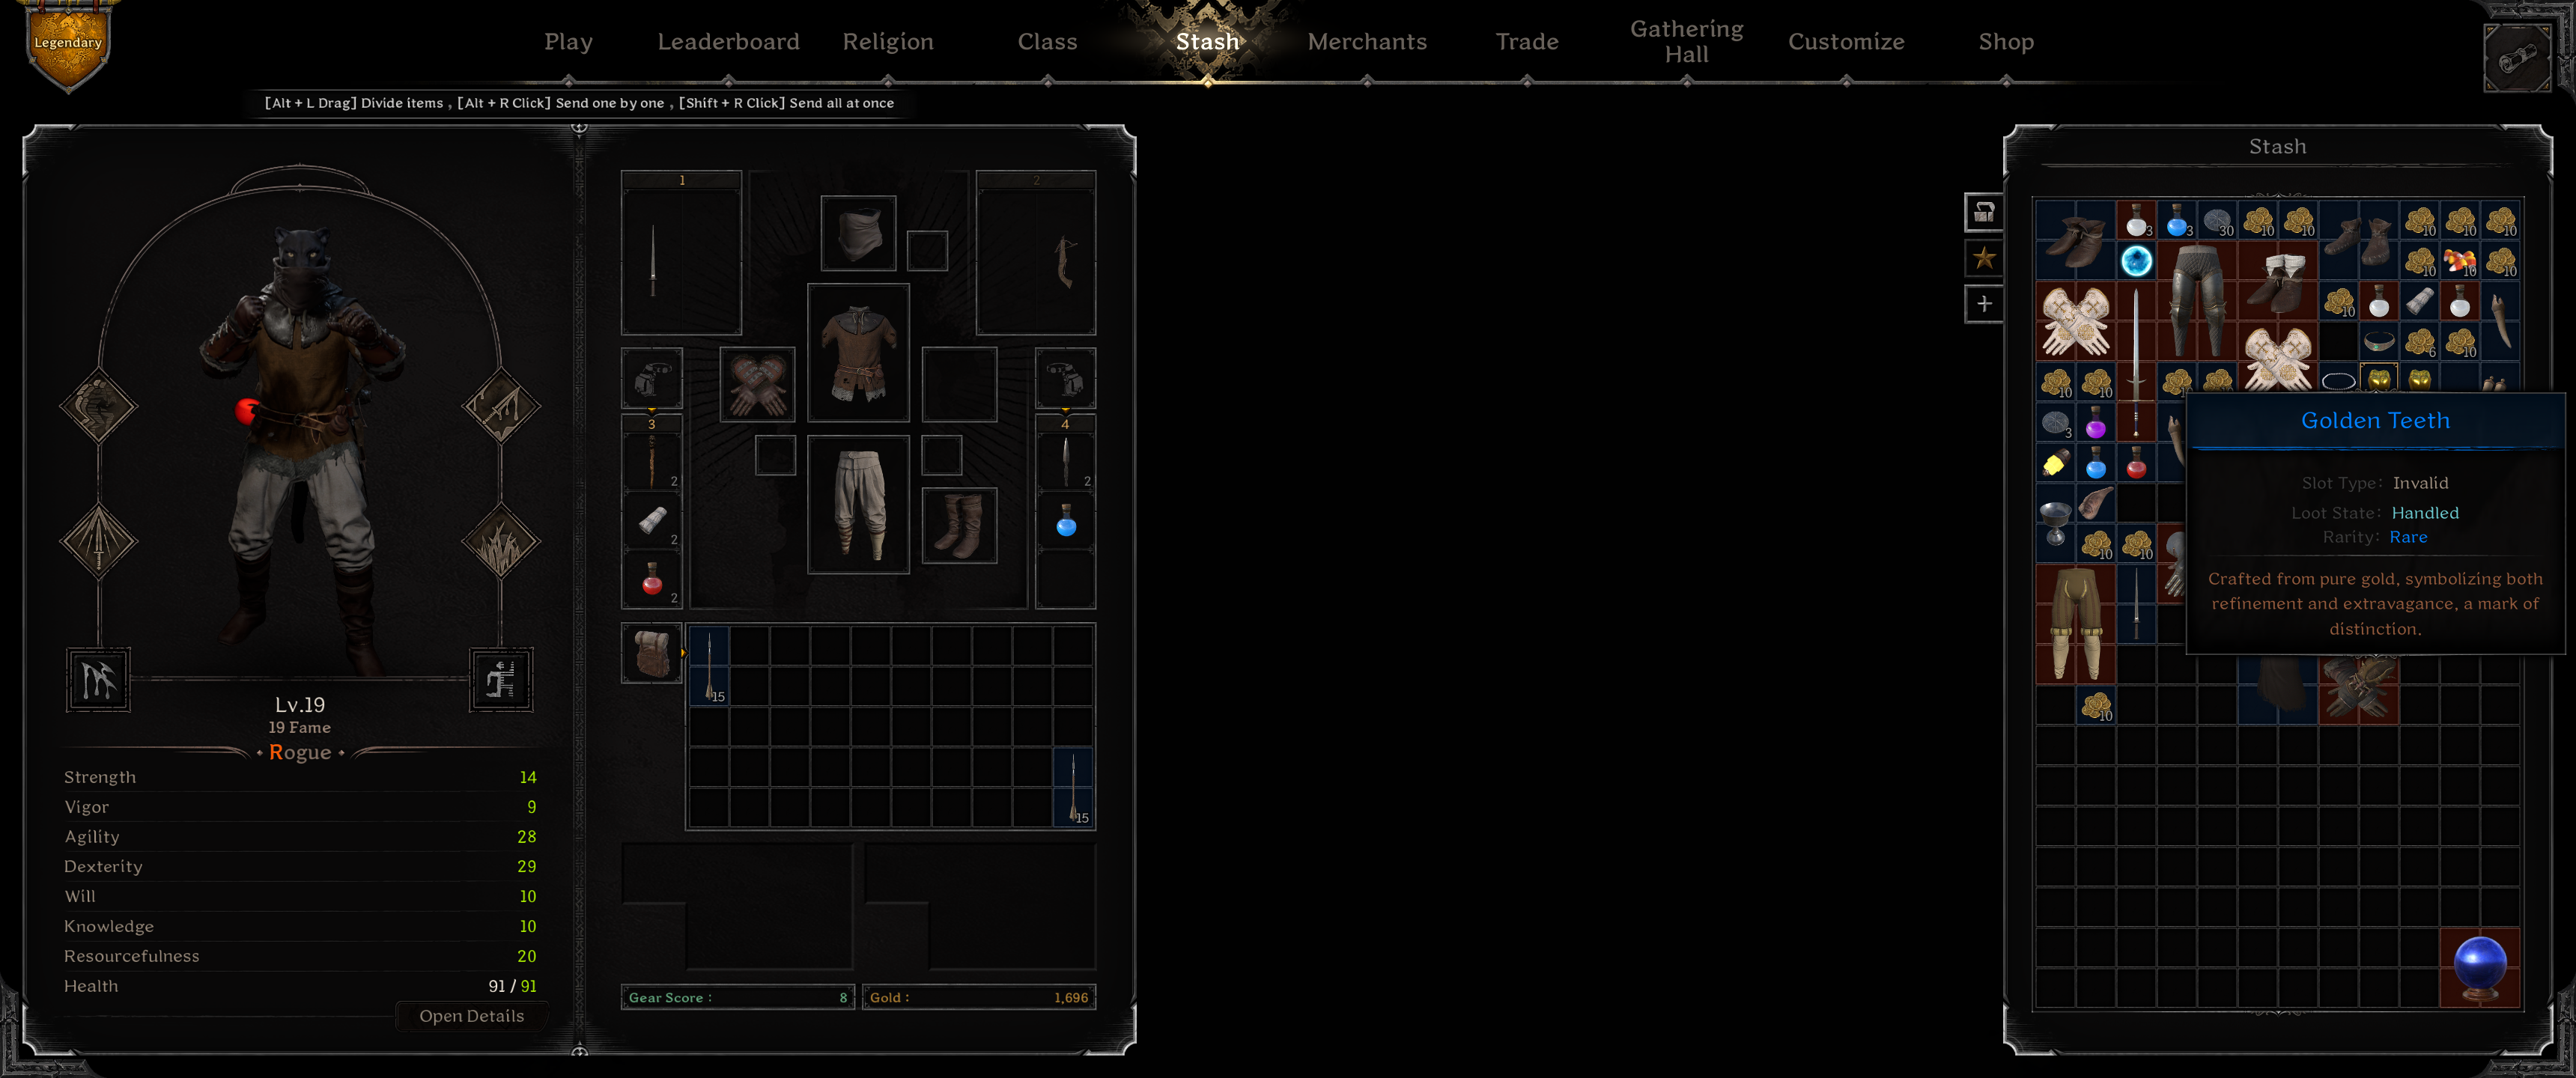Tooltip: (2187, 391, 2566, 656)
